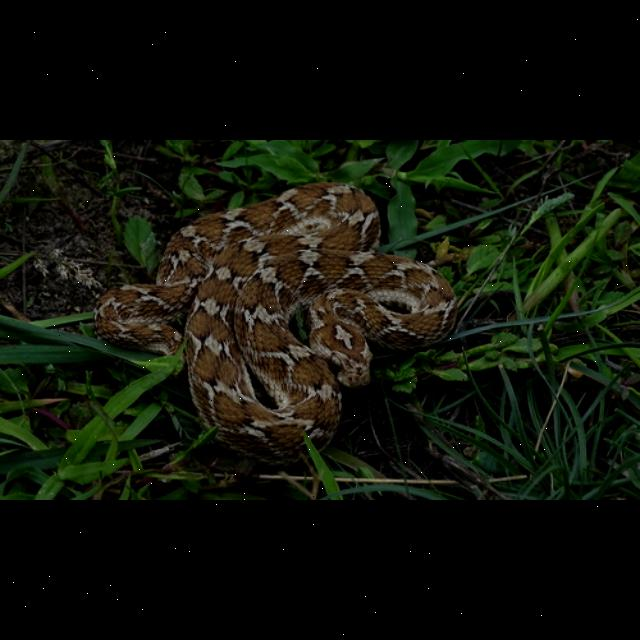snake: (95, 183, 463, 472)
